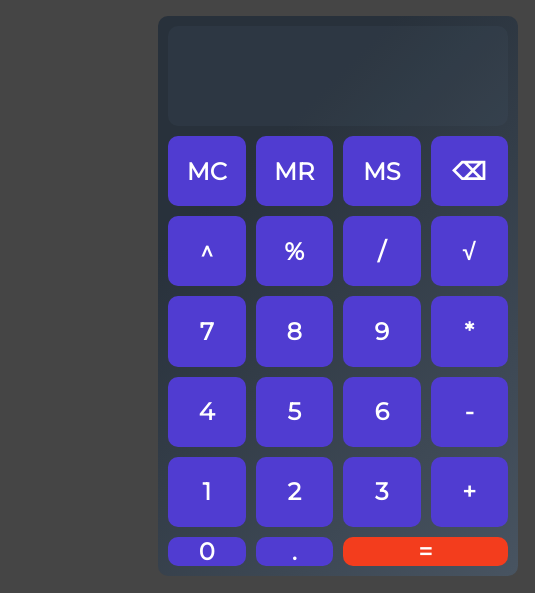
Test case: Does page render correctly › Does percentage sign return a percent of number
Click the button "9".
click(382, 332)  # box top-left (343, 296), bottom-right (420, 367)
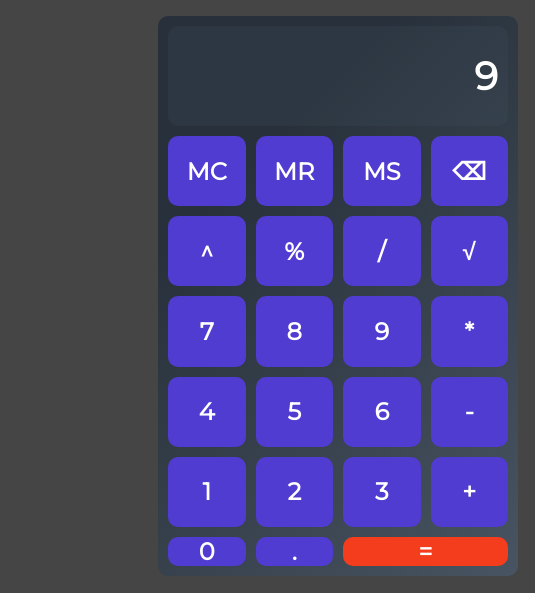
Click the button "/".
click(382, 251)  # box top-left (343, 216), bottom-right (420, 286)
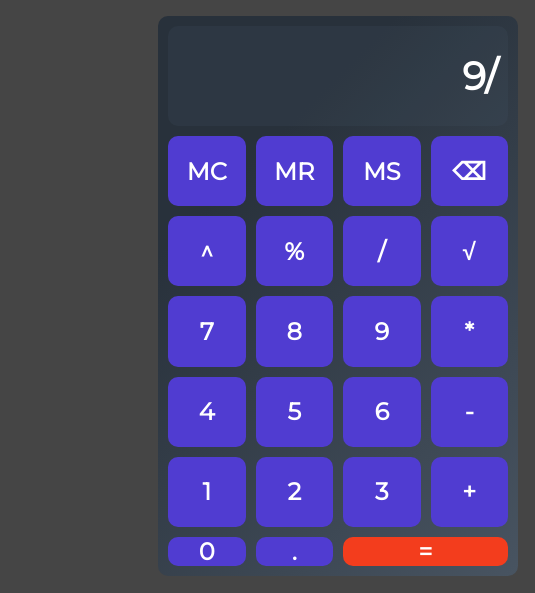
Click the button "1".
click(207, 492)  # box top-left (168, 457), bottom-right (246, 527)
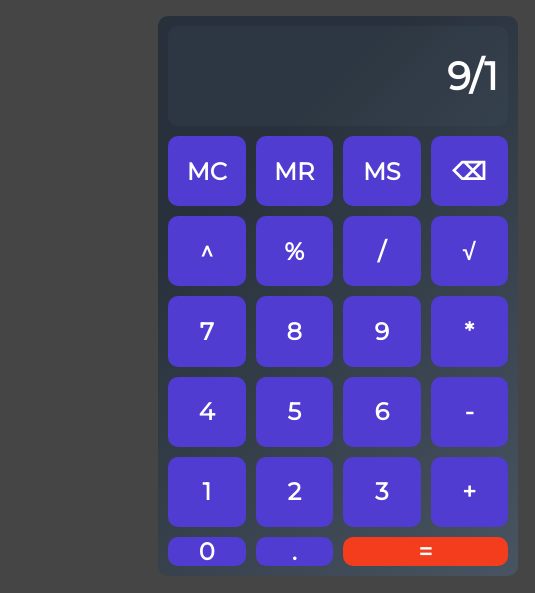
Click the button "0".
click(207, 552)  # box top-left (168, 537), bottom-right (246, 566)
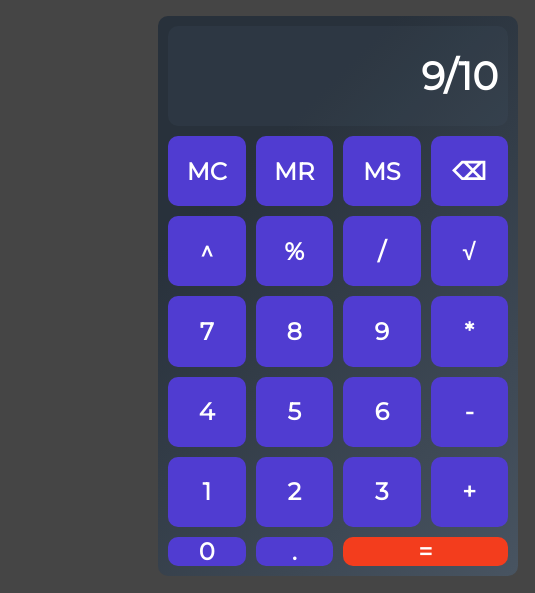
Click the button "=".
click(426, 552)  # box top-left (343, 537), bottom-right (508, 566)
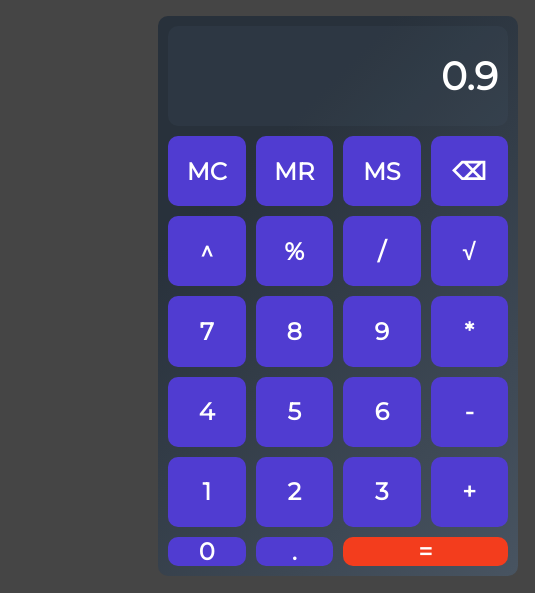
Click the button "%".
click(294, 251)  # box top-left (256, 216), bottom-right (333, 286)
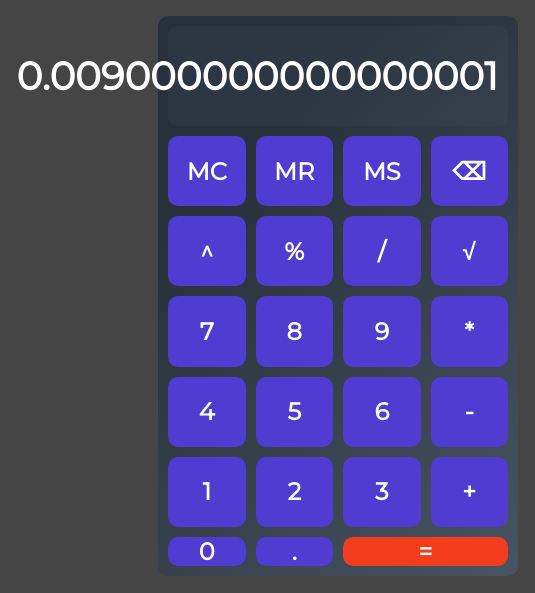
Expected: the text with test id "screen-id" reads "0.009000000000000001", top-left (16, 52), bottom-right (498, 100)
